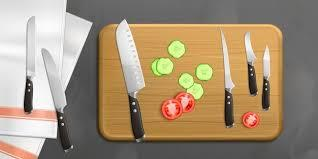Knife: (115, 18, 145, 142), (40, 47, 73, 152), (220, 29, 235, 128), (23, 15, 35, 113), (244, 31, 258, 96), (261, 44, 270, 110)
